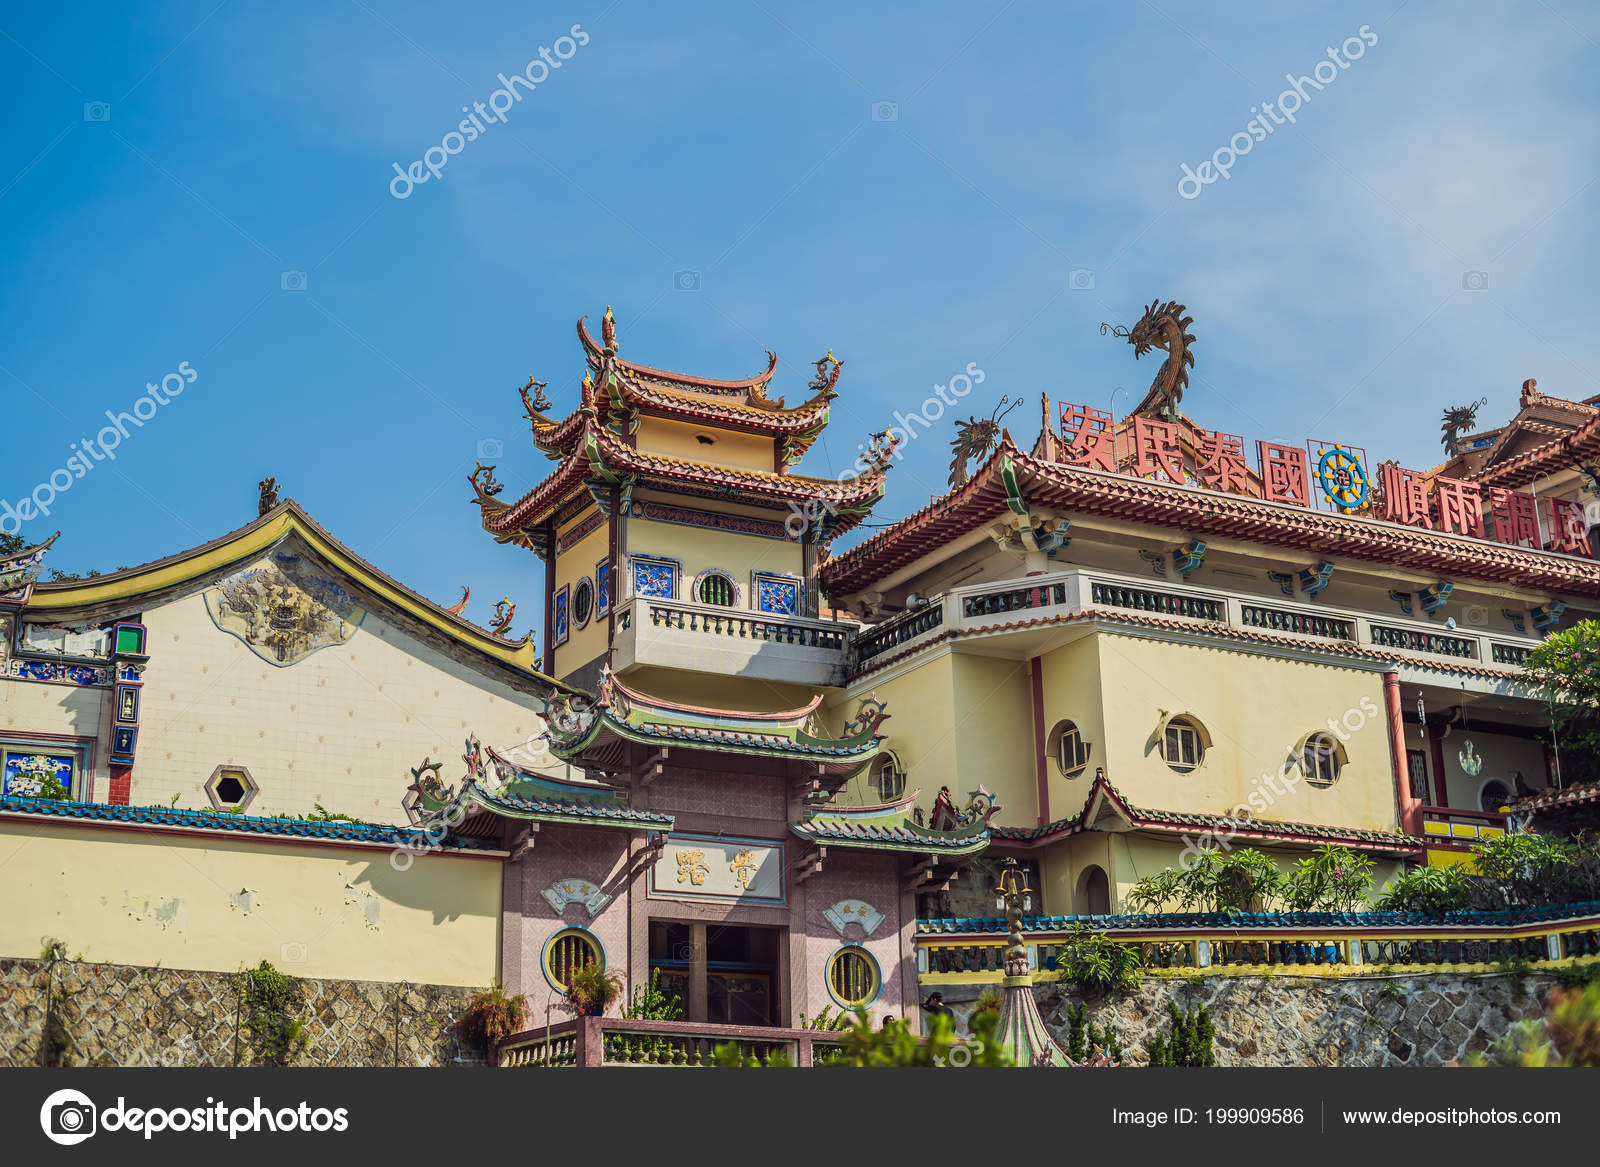Buddhist Temple: (30, 236, 1578, 1051)
